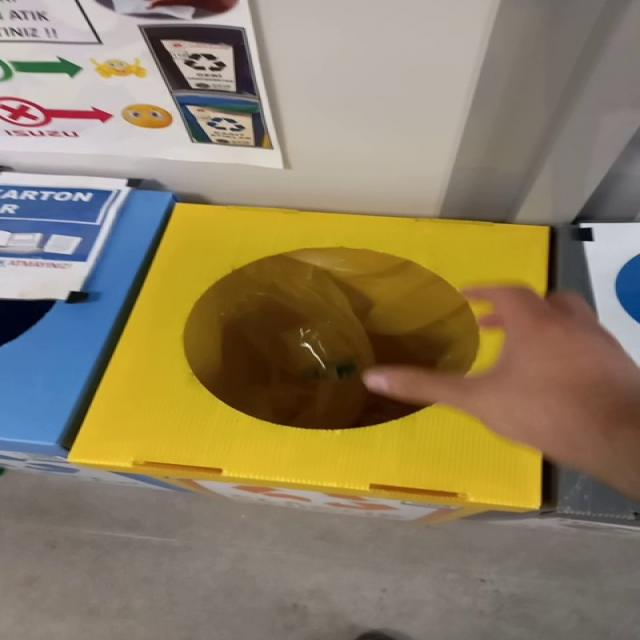plastic: (279, 321, 356, 379)
